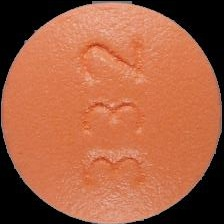54868-5031: (0, 0, 224, 224)
